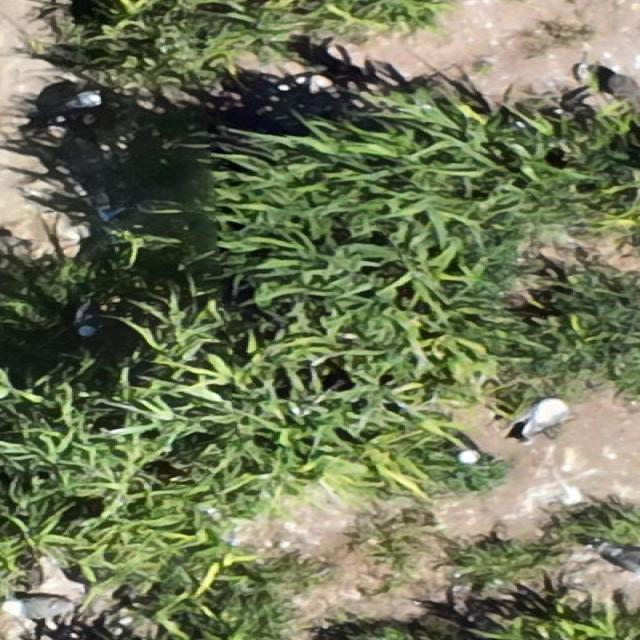umineko: (520, 396, 566, 442), (47, 92, 103, 125), (606, 547, 638, 574)
